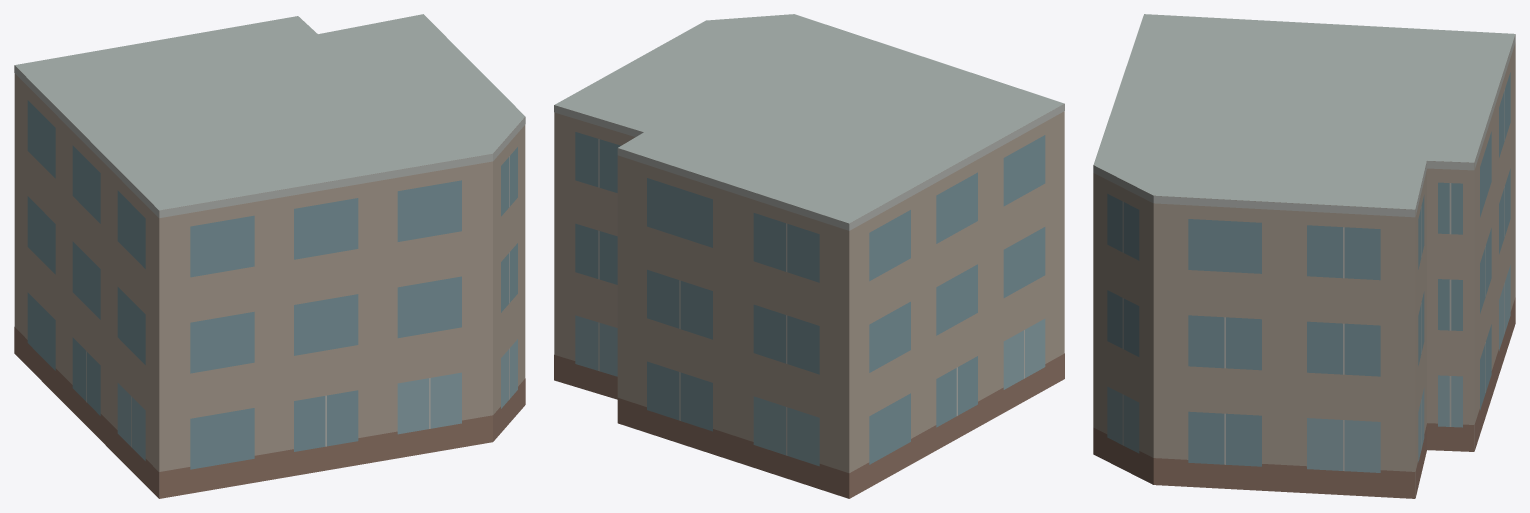
File: survey-upis-32997612.glb
3 renders of one model, left to right at view 1: azimuth 30°, elevation 25°; view 2: azimuth 150°, elevation 25°; view 3: azimuth 270°, elevation 25°, orthographic. The views are drawn at different scales.
Parts seen in each view (by area): view 1: survey-upis-32997612.tmp; view 2: survey-upis-32997612.tmp; view 3: survey-upis-32997612.tmp.
Boxes of the visible parts, x1=… form: survey-upis-32997612.tmp: x1=14, y1=14, x2=525, y2=498; survey-upis-32997612.tmp: x1=554, y1=14, x2=1064, y2=498; survey-upis-32997612.tmp: x1=1093, y1=14, x2=1515, y2=498.
Size of the model in its own units: 13.21 by 9.1 by 12.05.
